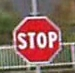stop: (11, 13, 61, 65)
